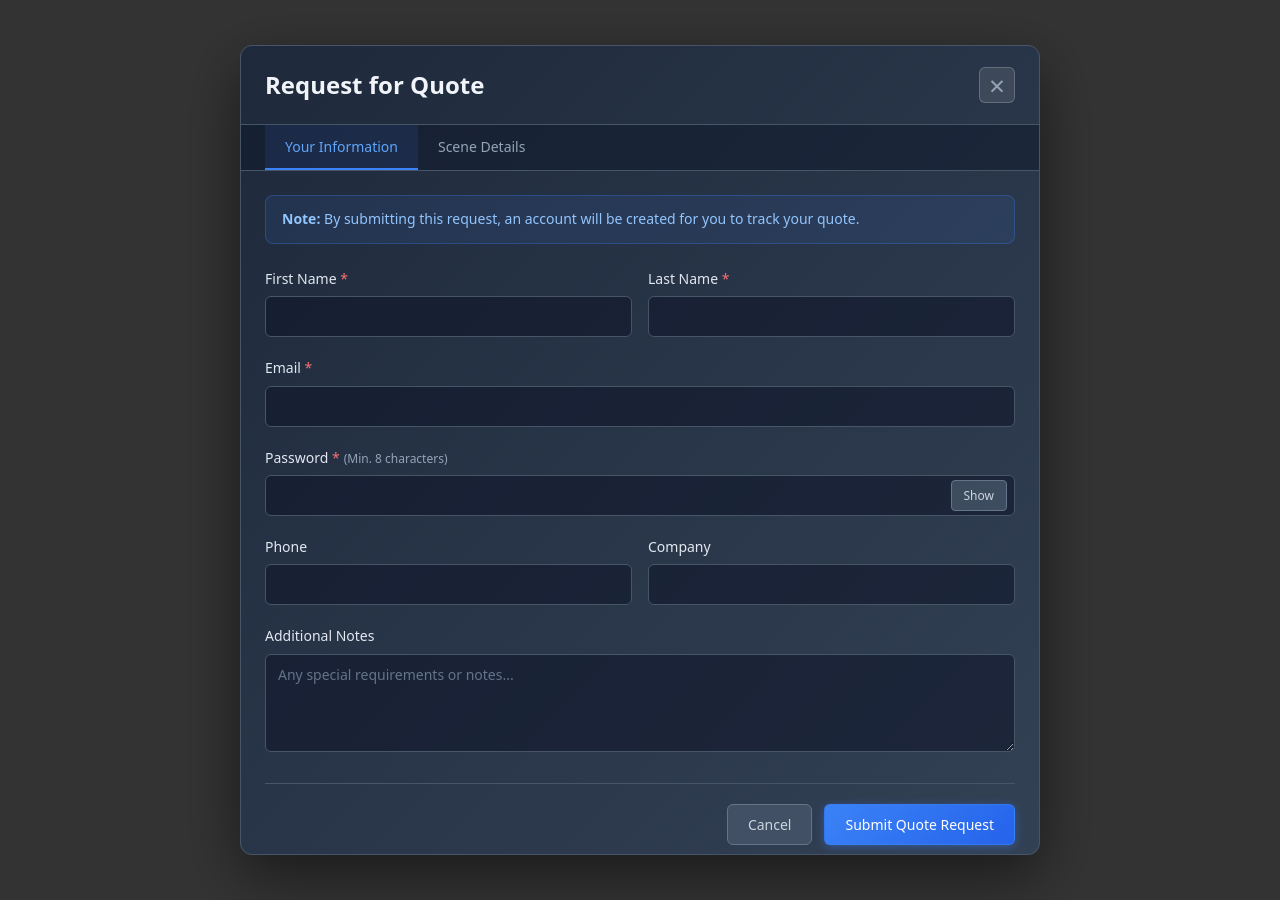
QuoteRequestModal Form Validation › should validate password length (minimum 8 characters)
// Fill in required fields
Type "John" into the field labelled "First Name *".
click(448, 317); type("John")  # box [265,296,632,337]
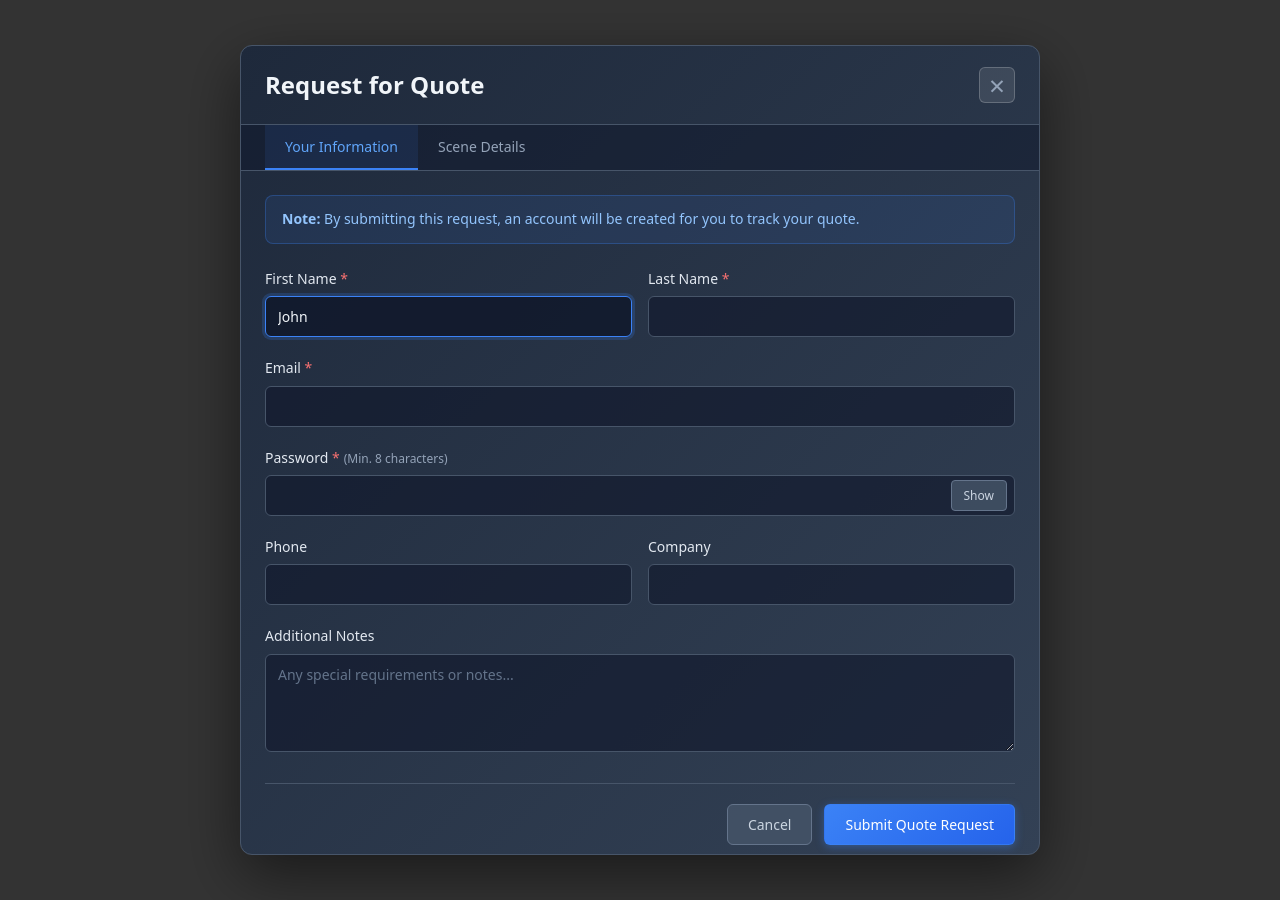
Type "Doe" into the field labelled "Last Name *".
click(832, 317); type("Doe")  # box [648,296,1015,337]
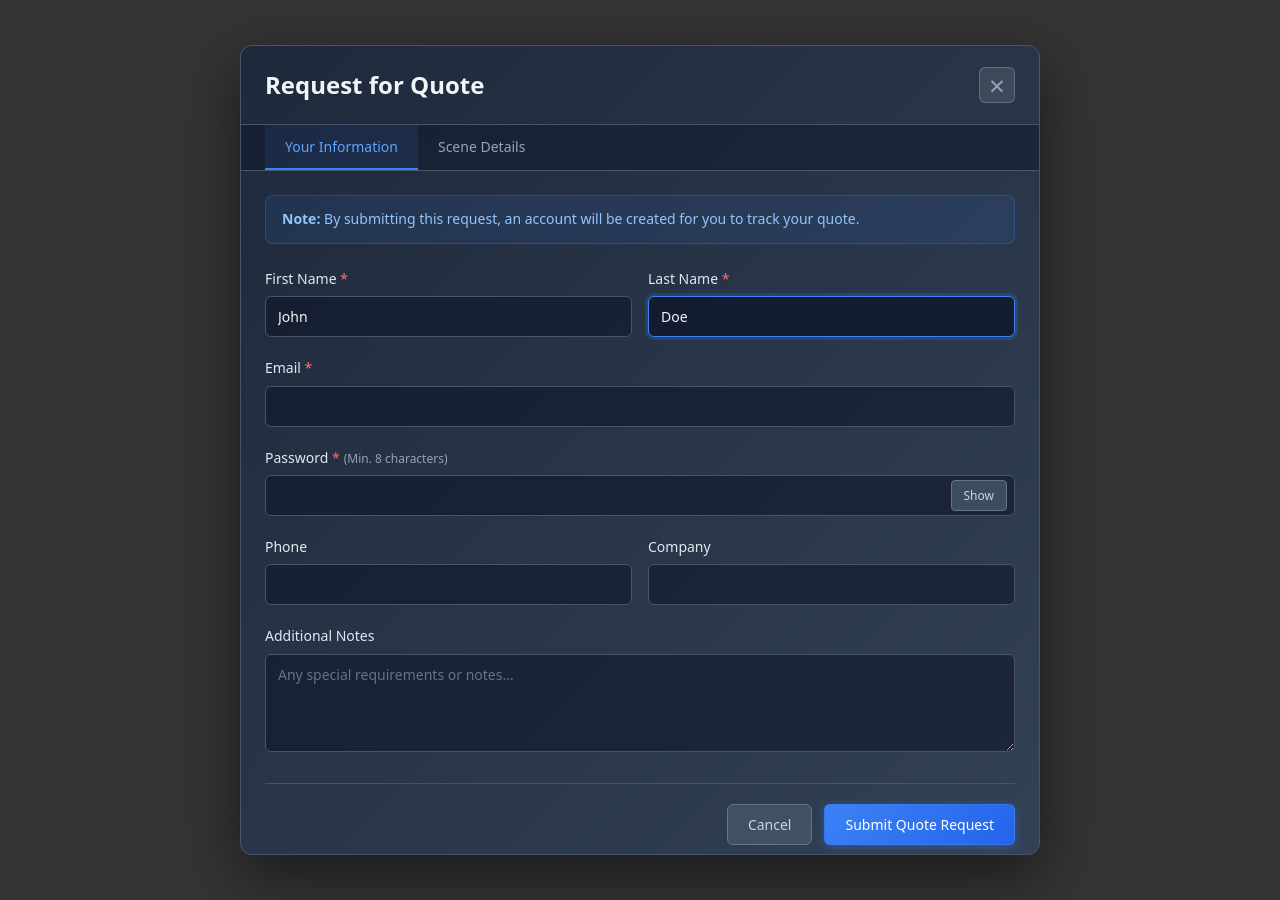
Type "john@example.com" into the field labelled "Email *".
click(640, 406); type("john@example.com")  # box [265,386,1015,427]
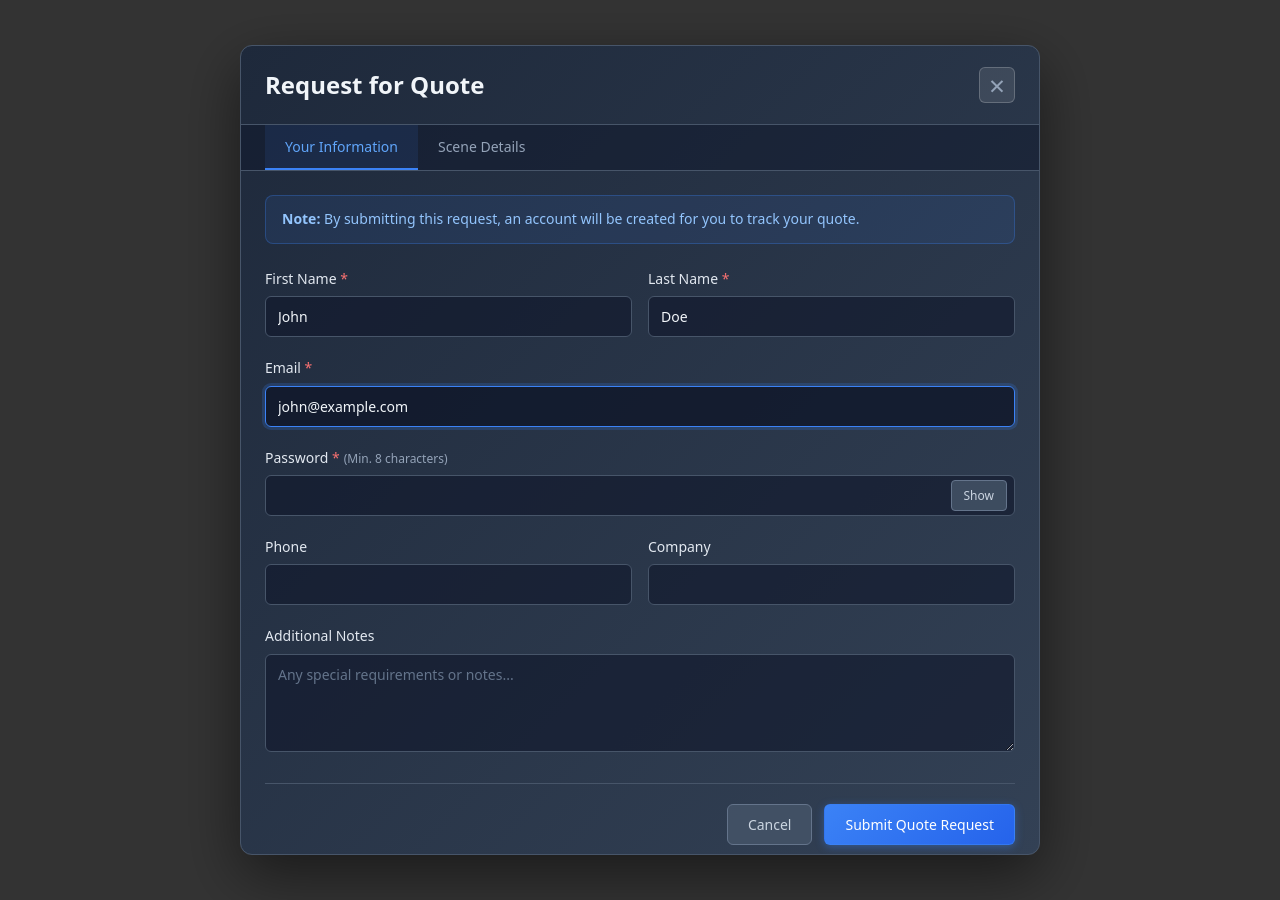
Type "short" into the password field labelled "Password *(Min. 8 characters)".
click(640, 496); type("short")  # box [265,475,1015,516]
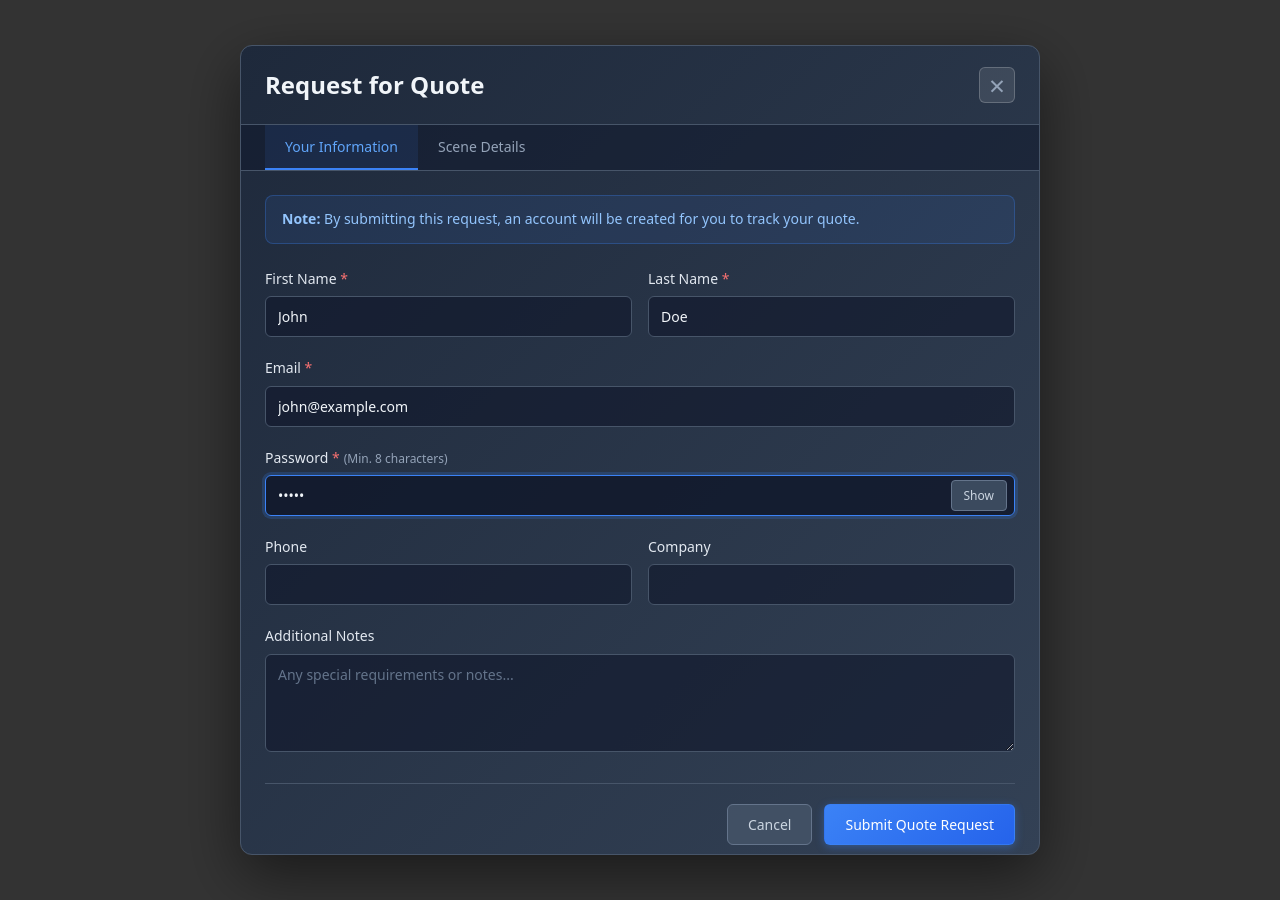
Click the button "Submit Quote Request".
click(920, 825)  # box [824,804,1015,845]
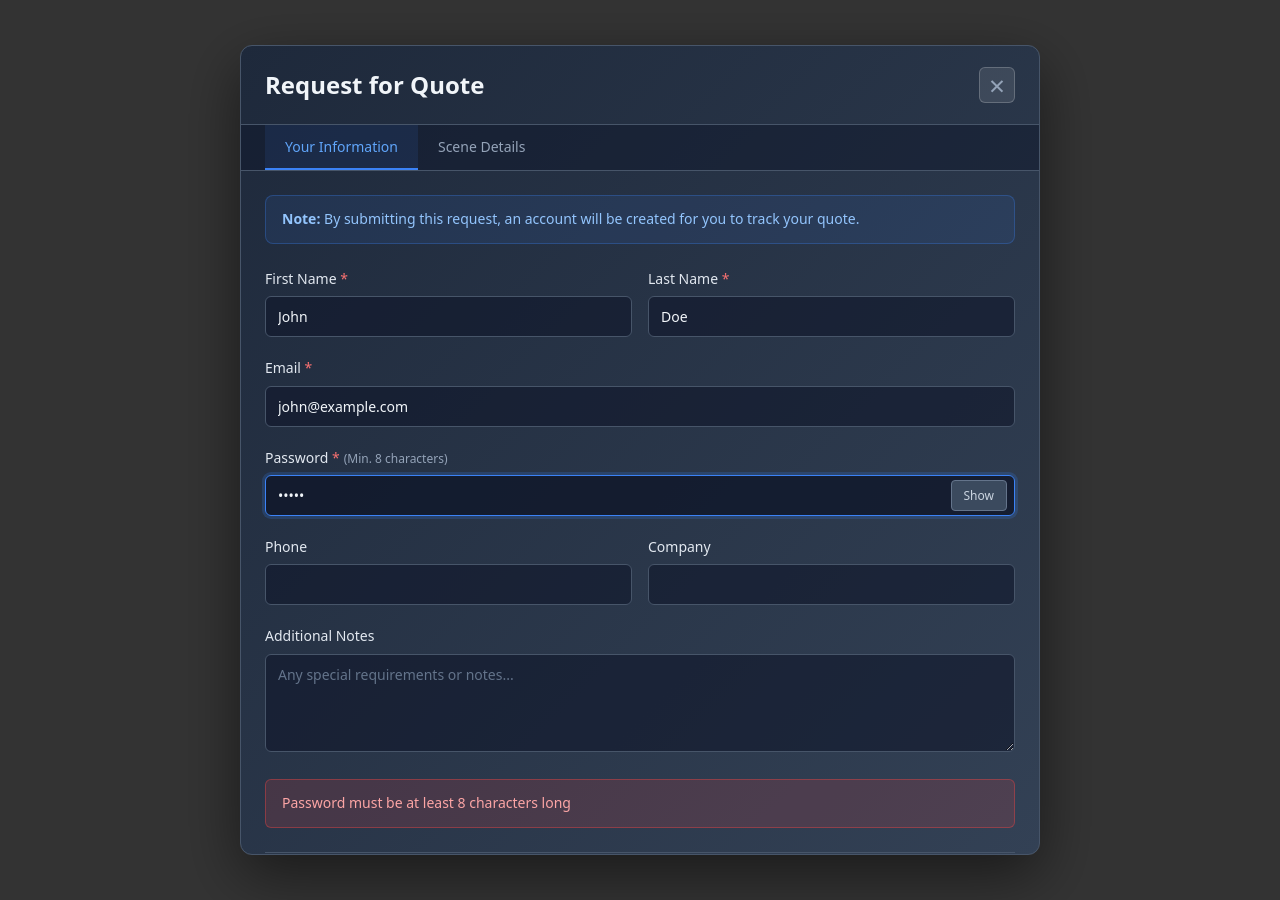
Expected: the text "Password must be at least 8 characters long" is shown, [265,779,1015,828]
